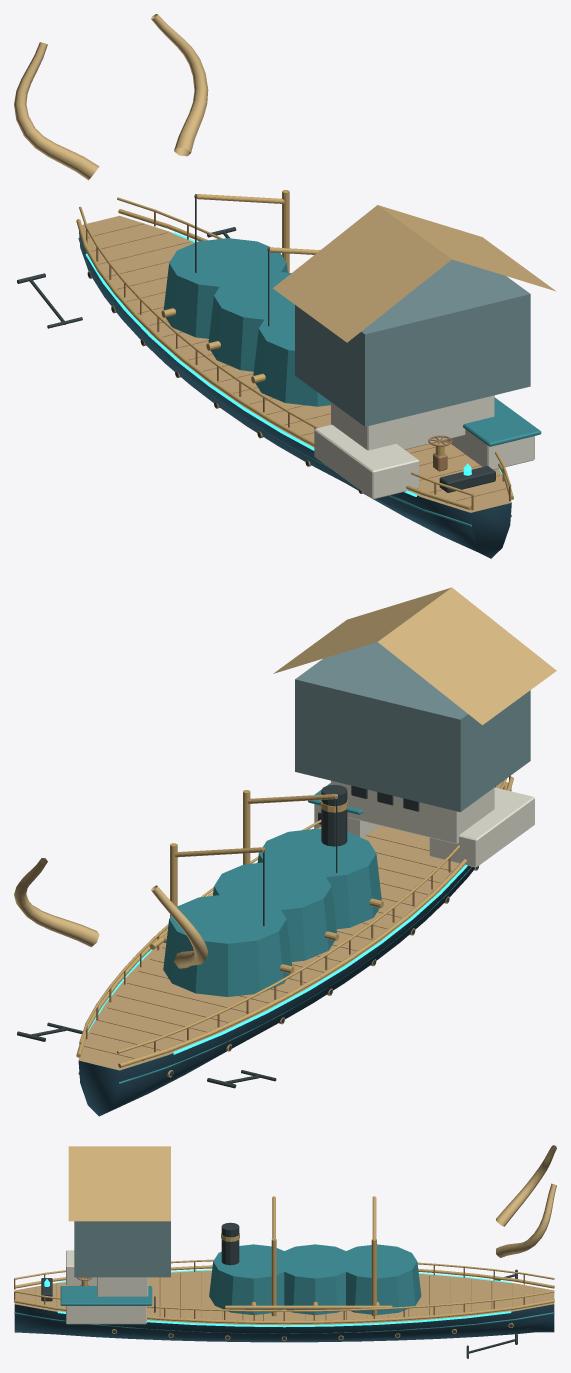
Rendered from ship_tanker.glb.
3 renders of one model, top to bottom at view 1: azimuth 30°, elevation 25°; view 2: azimuth 150°, elevation 25°; view 3: azimuth 270°, elevation 25°, orthographic. The views are drawn at different scales.
Parts seen in each view (by area): view 1: ship_tanker; view 2: ship_tanker; view 3: ship_tanker.
Part boxes in pixels (x1=…): ship_tanker: x1=14, y1=14, x2=556, y2=558; ship_tanker: x1=14, y1=587, x2=556, y2=1116; ship_tanker: x1=14, y1=1145, x2=556, y2=1358.
Size of the model in its own units: 7.03 by 8 by 21.13.
